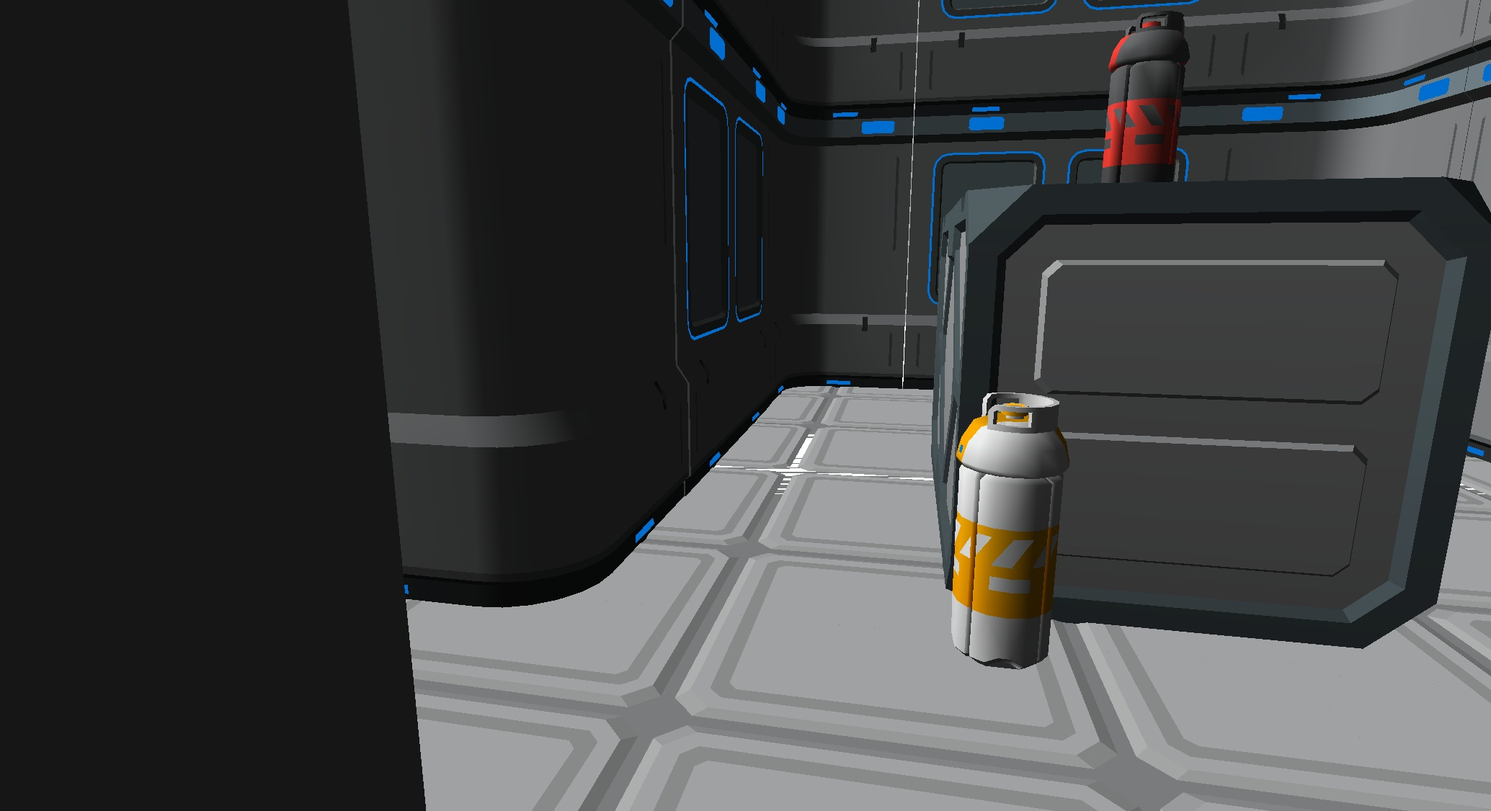red_barrel: (1103, 12, 1189, 182)
yellow_barrel: (953, 393, 1069, 667)
